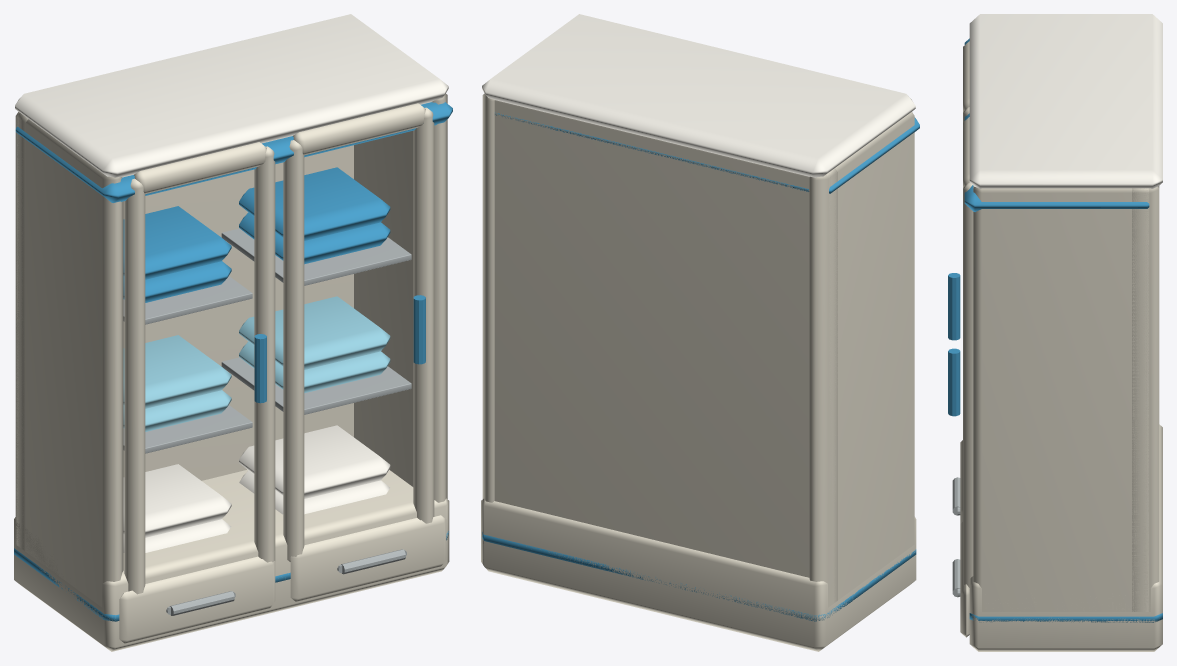
Rendered from ThermaNest_advanced.glb.
3 views of the same model, side by side, from view 1: azimuth 30°, elevation 25°; view 2: azimuth 150°, elevation 25°; view 3: azimuth 270°, elevation 25° (orthographic). The views are drawn at different scales.
Parts seen in each view (by area): view 1: Static_ivory, Static_white, Warmer_door_right, Warmer_door_left, Static_blue, Static_lightblue, Static_steel, Drawer_1, Drawer_2; view 2: Static_ivory, Static_white, Static_blue; view 3: Static_ivory, Static_white, Warmer_door_right, Static_blue, Warmer_door_left, Drawer_2, Drawer_1.
Boxes of the visible parts, x1=… form: Static_ivory: x1=14, y1=93, x2=449, y2=651; Static_white: x1=15, y1=14, x2=448, y2=552; Warmer_door_right: x1=283, y1=103, x2=434, y2=561; Warmer_door_left: x1=124, y1=142, x2=275, y2=594; Static_blue: x1=14, y1=102, x2=452, y2=621; Static_lightblue: x1=123, y1=296, x2=390, y2=431; Static_steel: x1=123, y1=228, x2=411, y2=453; Drawer_1: x1=119, y1=559, x2=275, y2=643; Drawer_2: x1=290, y1=515, x2=446, y2=601; Static_ivory: x1=481, y1=93, x2=916, y2=651; Static_white: x1=482, y1=14, x2=915, y2=177; Static_blue: x1=482, y1=112, x2=919, y2=621; Static_ivory: x1=969, y1=186, x2=1162, y2=651; Static_white: x1=969, y1=14, x2=1162, y2=188; Warmer_door_right: x1=948, y1=117, x2=973, y2=587; Static_blue: x1=964, y1=38, x2=1162, y2=622; Warmer_door_left: x1=948, y1=41, x2=969, y2=340; Drawer_2: x1=952, y1=522, x2=969, y2=637; Drawer_1: x1=952, y1=440, x2=962, y2=523.
Bounding box in the file's own units: 1.14 × 1.54 × 0.623.
